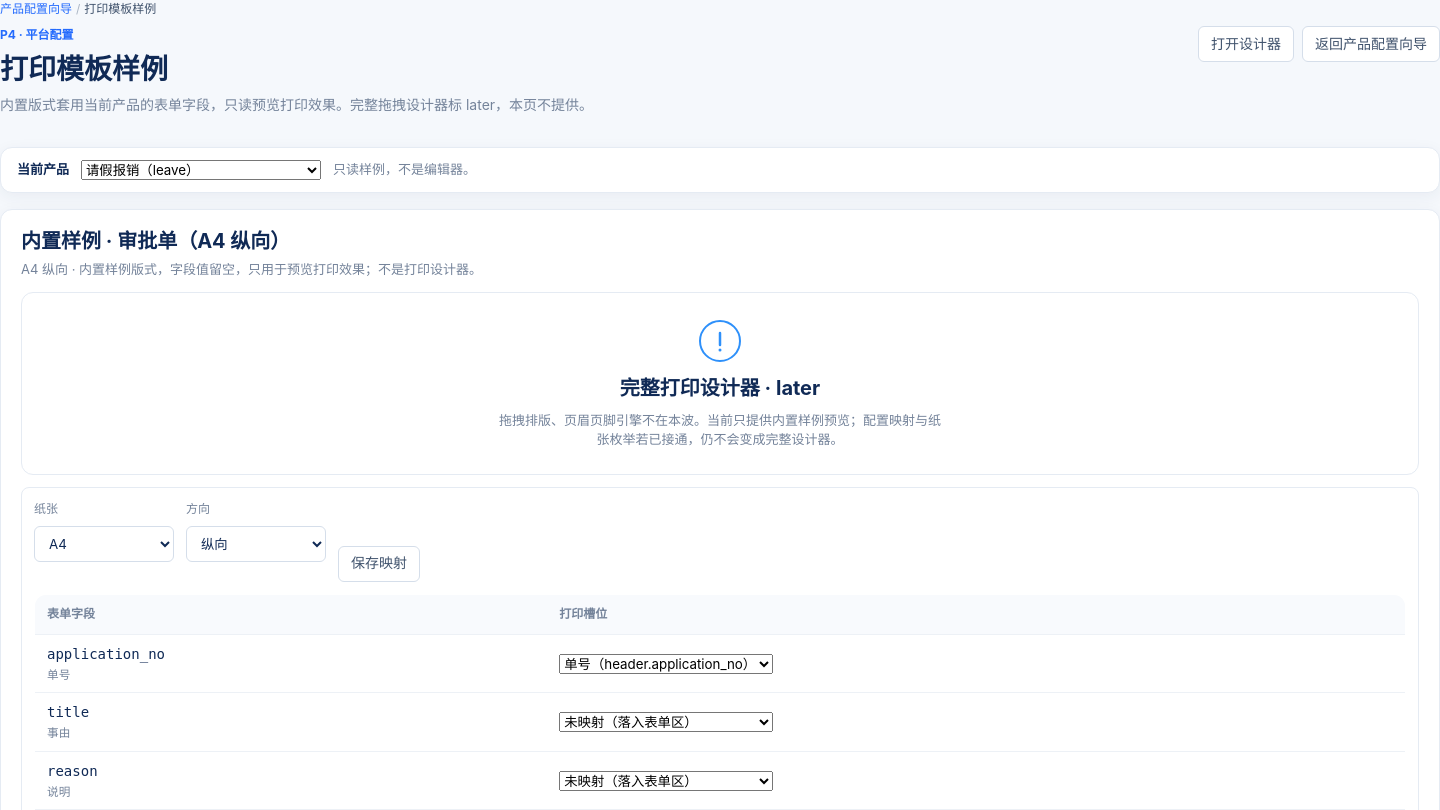
product sample print (PC10 / CF-R1) › sends the current expected_revision when saving a print mapping (DPO-C3)
Select "表单字段区（form.fields）" in the dropdown with test id "sample-print-slot-reason" at point(666, 781), box [559,771,773,791]
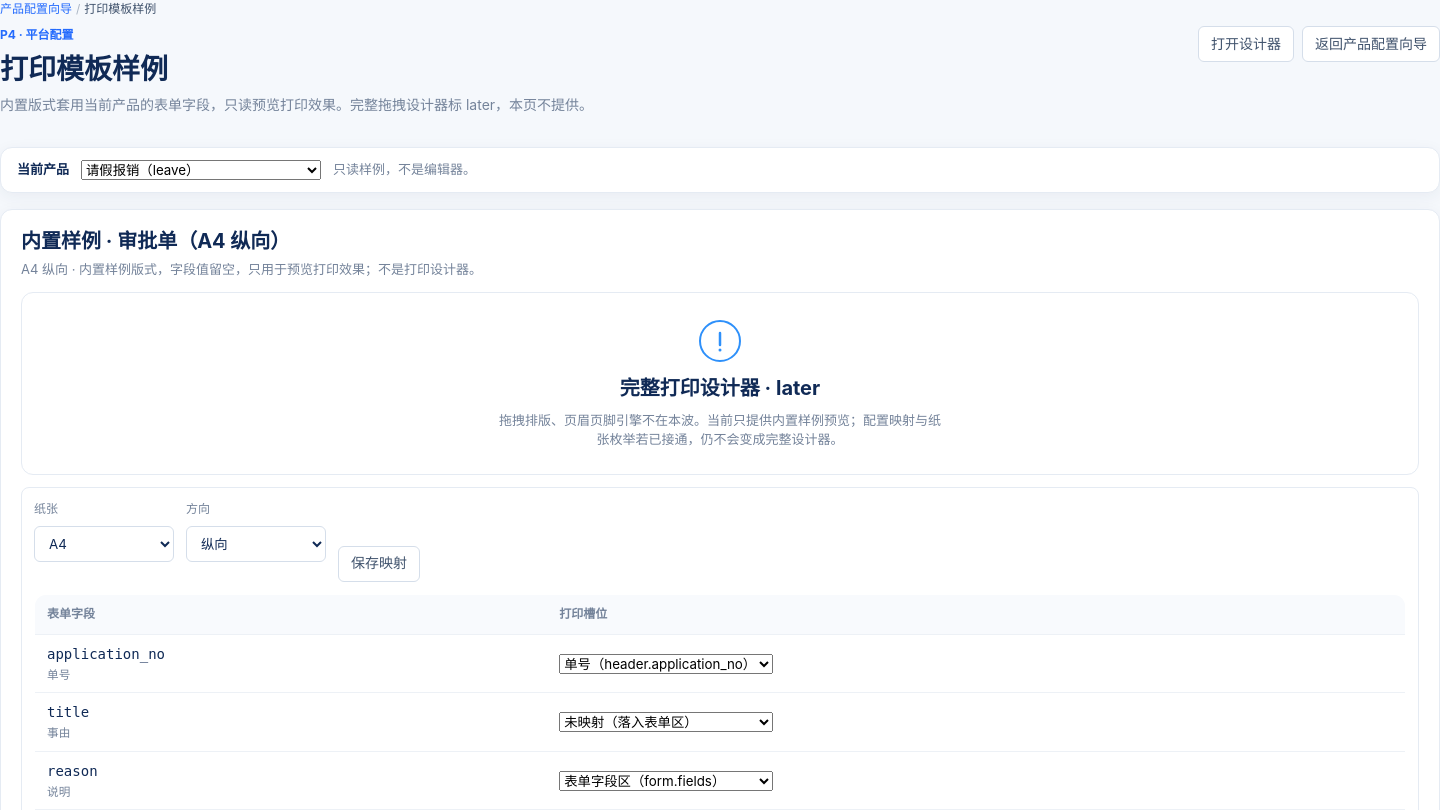
Click the button with test id "sample-print-mapping-save" at point(379, 564), box [338,546,420,582]
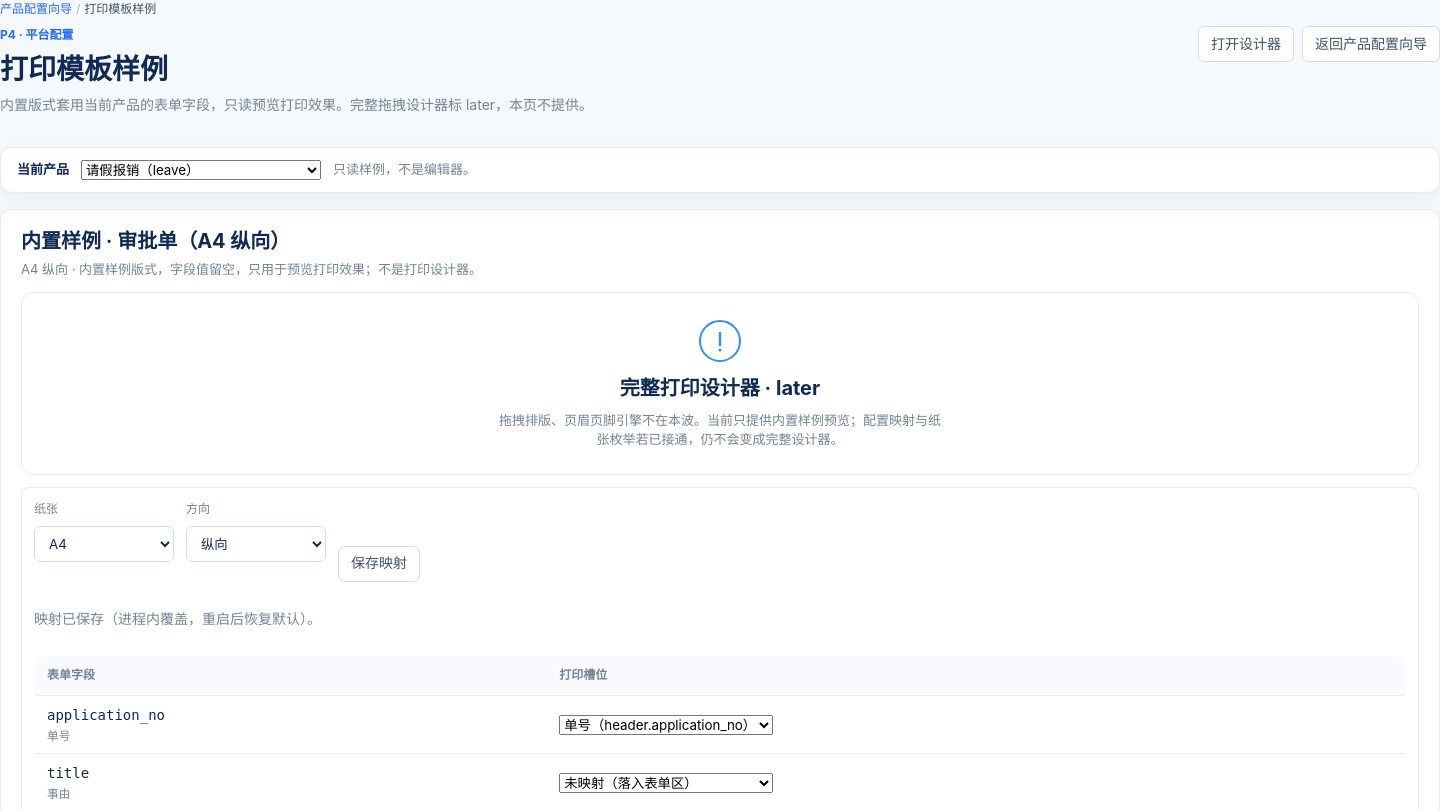
Expected: the text with test id "sample-print-mapping-saved" shows "映射已保存", [34,610,321,626]
